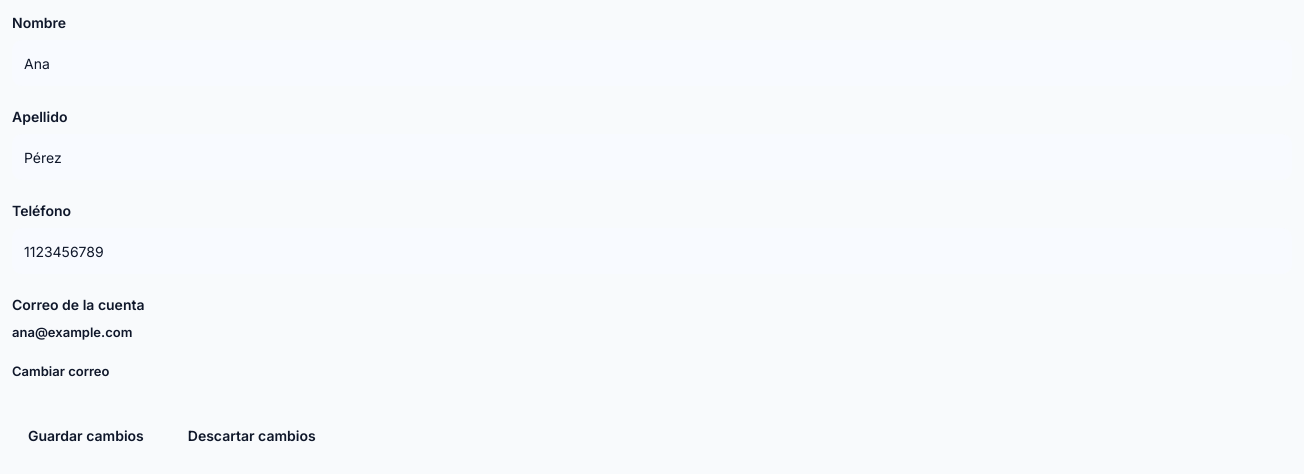
Test: More account forms with actual transport contracts › discards profile edits without an API write and preserves confirmed email
The image size is (1304, 474).
Replace the text in the field labelled "Nombre" with "Otra" at (652, 63), box left=12, top=40, right=1292, bottom=86
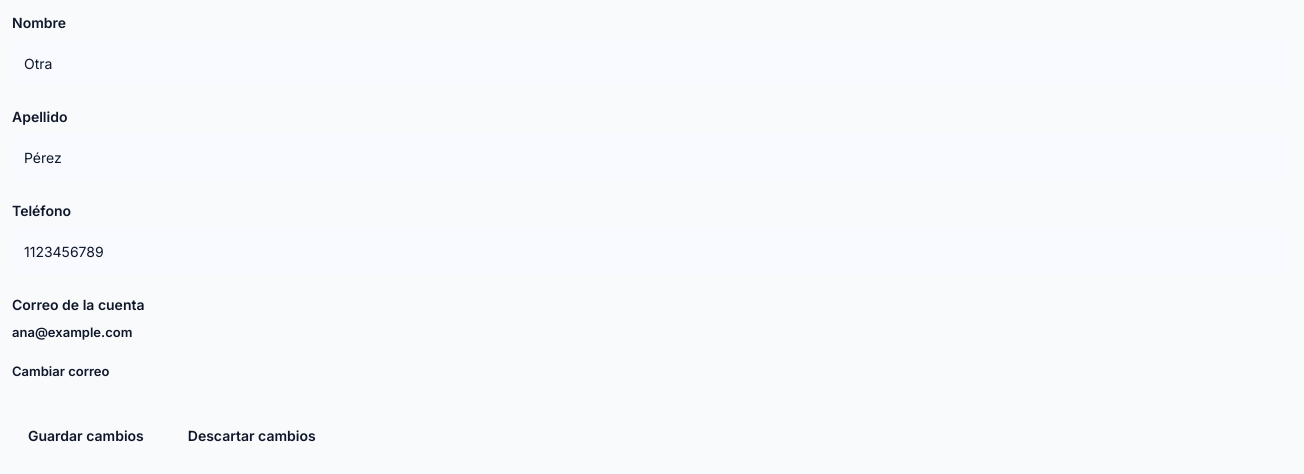
Click the button "Descartar cambios" at (252, 436), box left=172, top=414, right=332, bottom=458
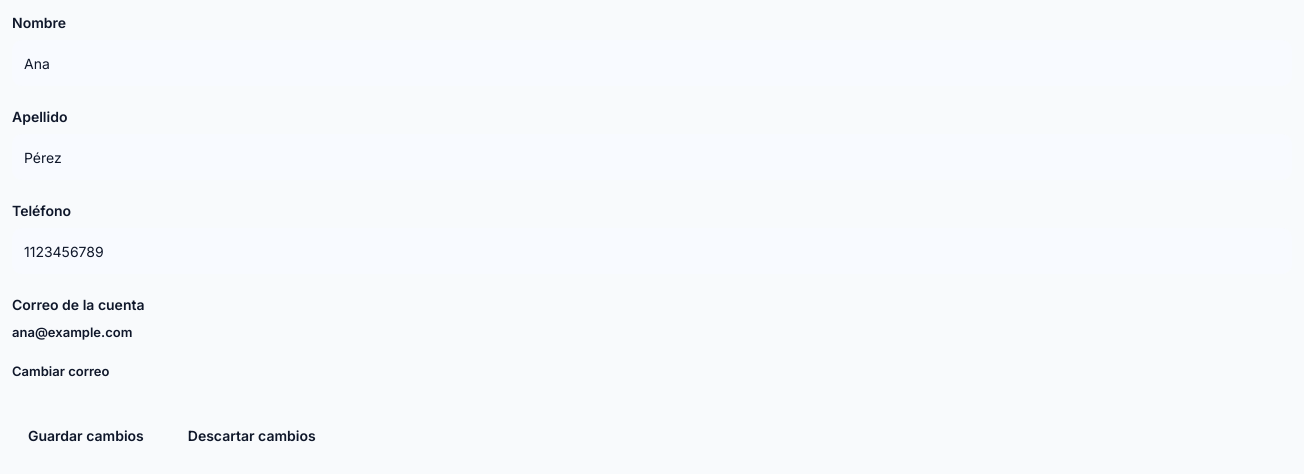
Expected: the field labelled "Nombre" holds "Ana", left=12, top=40, right=1292, bottom=86
